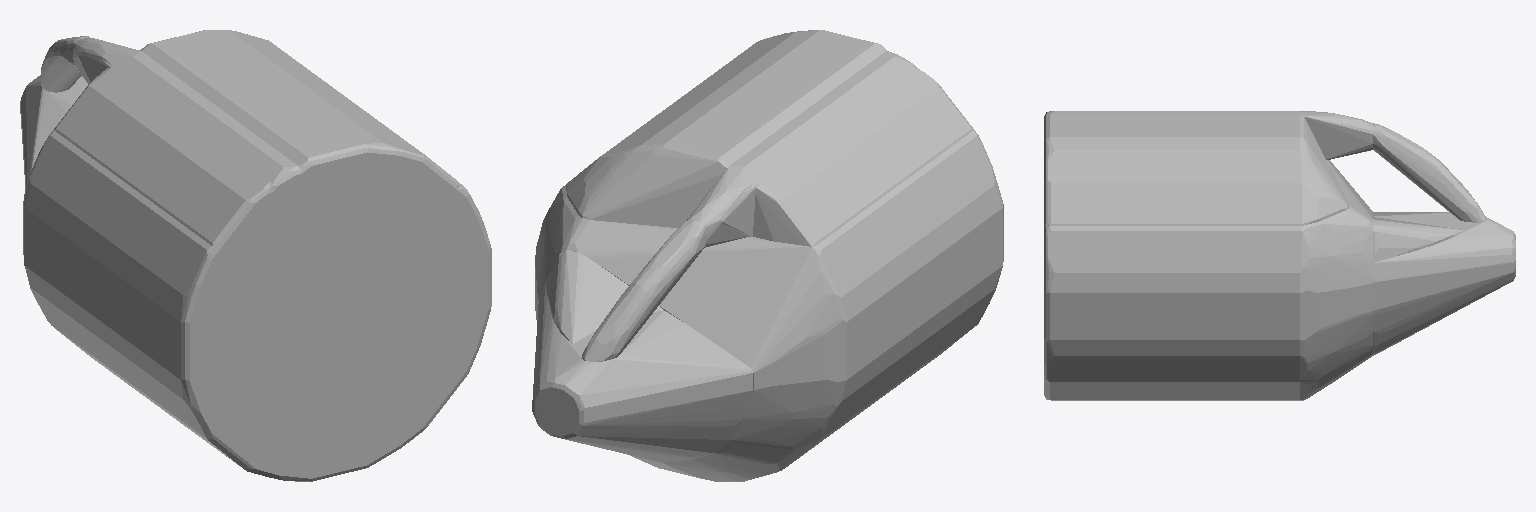
URDF robot description (root):
<robot name="root">
  <link name="link_coacd_convex_piece_0">
    <inertial>
      <origin xyz="0 0 0" rpy="0 0 0"/>
      <inertia ixx="1.38E-02" ixy="-2.59E-04" ixz="-4.12E-05" iyy="2.05E-03" iyz="1.65E-03" izz="1.41E-02"/>
    </inertial>
    <visual>
      <origin xyz="0 0 0" rpy="0 0 0"/>
      <geometry>
        <mesh filename="coacd_convex_piece_0.obj" scale="1.0000E+00 1.0000E+00 1.0000E+00"/>
      </geometry>
      <material name="">
        <color rgba="7.50E-01 7.50E-01 7.50E-01 1"/>
      </material>
    </visual>
    <collision>
      <origin xyz="0 0 0" rpy="0 0 0"/>
      <geometry>
        <mesh filename="coacd_convex_piece_0.obj" scale="1.0000E+00 1.0000E+00 1.0000E+00"/>
      </geometry>
    </collision>
  </link>
  <link name="link_coacd_convex_piece_1">
    <inertial>
      <origin xyz="0 0 0" rpy="0 0 0"/>
      <inertia ixx="1.25E-01" ixy="-9.99E-04" ixz="-2.99E-04" iyy="8.58E-02" iyz="-1.21E-02" izz="1.39E-01"/>
    </inertial>
    <visual>
      <origin xyz="0 0 0" rpy="0 0 0"/>
      <geometry>
        <mesh filename="coacd_convex_piece_1.obj" scale="1.0000E+00 1.0000E+00 1.0000E+00"/>
      </geometry>
      <material name="">
        <color rgba="7.50E-01 7.50E-01 7.50E-01 1"/>
      </material>
    </visual>
    <collision>
      <origin xyz="0 0 0" rpy="0 0 0"/>
      <geometry>
        <mesh filename="coacd_convex_piece_1.obj" scale="1.0000E+00 1.0000E+00 1.0000E+00"/>
      </geometry>
    </collision>
  </link>
  <joint name="link_coacd_convex_piece_1_joint" type="fixed">
    <origin xyz="0 0 0" rpy="0 0 0"/>
    <parent link="link_coacd_convex_piece_0"/>
    <child link="link_coacd_convex_piece_1"/>
  </joint>
  <link name="link_coacd_convex_piece_2">
    <inertial>
      <origin xyz="0 0 0" rpy="0 0 0"/>
      <inertia ixx="4.23E-04" ixy="-1.89E-04" ixz="-7.49E-05" iyy="1.62E-04" iyz="-1.90E-04" izz="4.30E-04"/>
    </inertial>
    <visual>
      <origin xyz="0 0 0" rpy="0 0 0"/>
      <geometry>
        <mesh filename="coacd_convex_piece_2.obj" scale="1.0000E+00 1.0000E+00 1.0000E+00"/>
      </geometry>
      <material name="">
        <color rgba="7.50E-01 7.50E-01 7.50E-01 1"/>
      </material>
    </visual>
    <collision>
      <origin xyz="0 0 0" rpy="0 0 0"/>
      <geometry>
        <mesh filename="coacd_convex_piece_2.obj" scale="1.0000E+00 1.0000E+00 1.0000E+00"/>
      </geometry>
    </collision>
  </link>
  <joint name="link_coacd_convex_piece_2_joint" type="fixed">
    <origin xyz="0 0 0" rpy="0 0 0"/>
    <parent link="link_coacd_convex_piece_1"/>
    <child link="link_coacd_convex_piece_2"/>
  </joint>
  <link name="link_coacd_convex_piece_3">
    <inertial>
      <origin xyz="0 0 0" rpy="0 0 0"/>
      <inertia ixx="2.28E-02" ixy="2.38E-03" ixz="-2.75E-03" iyy="1.43E-02" iyz="1.07E-02" izz="1.26E-02"/>
    </inertial>
    <visual>
      <origin xyz="0 0 0" rpy="0 0 0"/>
      <geometry>
        <mesh filename="coacd_convex_piece_3.obj" scale="1.0000E+00 1.0000E+00 1.0000E+00"/>
      </geometry>
      <material name="">
        <color rgba="7.50E-01 7.50E-01 7.50E-01 1"/>
      </material>
    </visual>
    <collision>
      <origin xyz="0 0 0" rpy="0 0 0"/>
      <geometry>
        <mesh filename="coacd_convex_piece_3.obj" scale="1.0000E+00 1.0000E+00 1.0000E+00"/>
      </geometry>
    </collision>
  </link>
  <joint name="link_coacd_convex_piece_3_joint" type="fixed">
    <origin xyz="0 0 0" rpy="0 0 0"/>
    <parent link="link_coacd_convex_piece_2"/>
    <child link="link_coacd_convex_piece_3"/>
  </joint>
  <link name="link_coacd_convex_piece_4">
    <inertial>
      <origin xyz="0 0 0" rpy="0 0 0"/>
      <inertia ixx="1.01E-03" ixy="1.85E-04" ixz="1.12E-04" iyy="3.20E-04" iyz="-4.52E-04" izz="7.87E-04"/>
    </inertial>
    <visual>
      <origin xyz="0 0 0" rpy="0 0 0"/>
      <geometry>
        <mesh filename="coacd_convex_piece_4.obj" scale="1.0000E+00 1.0000E+00 1.0000E+00"/>
      </geometry>
      <material name="">
        <color rgba="7.50E-01 7.50E-01 7.50E-01 1"/>
      </material>
    </visual>
    <collision>
      <origin xyz="0 0 0" rpy="0 0 0"/>
      <geometry>
        <mesh filename="coacd_convex_piece_4.obj" scale="1.0000E+00 1.0000E+00 1.0000E+00"/>
      </geometry>
    </collision>
  </link>
  <joint name="link_coacd_convex_piece_4_joint" type="fixed">
    <origin xyz="0 0 0" rpy="0 0 0"/>
    <parent link="link_coacd_convex_piece_3"/>
    <child link="link_coacd_convex_piece_4"/>
  </joint>
  <link name="link_coacd_convex_piece_5">
    <inertial>
      <origin xyz="0 0 0" rpy="0 0 0"/>
      <inertia ixx="4.63E-03" ixy="-8.01E-04" ixz="1.11E-03" iyy="3.12E-03" iyz="1.88E-03" izz="2.48E-03"/>
    </inertial>
    <visual>
      <origin xyz="0 0 0" rpy="0 0 0"/>
      <geometry>
        <mesh filename="coacd_convex_piece_5.obj" scale="1.0000E+00 1.0000E+00 1.0000E+00"/>
      </geometry>
      <material name="">
        <color rgba="7.50E-01 7.50E-01 7.50E-01 1"/>
      </material>
    </visual>
    <collision>
      <origin xyz="0 0 0" rpy="0 0 0"/>
      <geometry>
        <mesh filename="coacd_convex_piece_5.obj" scale="1.0000E+00 1.0000E+00 1.0000E+00"/>
      </geometry>
    </collision>
  </link>
  <joint name="link_coacd_convex_piece_5_joint" type="fixed">
    <origin xyz="0 0 0" rpy="0 0 0"/>
    <parent link="link_coacd_convex_piece_4"/>
    <child link="link_coacd_convex_piece_5"/>
  </joint>
  <link name="link_coacd_convex_piece_6">
    <inertial>
      <origin xyz="0 0 0" rpy="0 0 0"/>
      <inertia ixx="4.04E-03" ixy="-1.56E-03" ixz="1.51E-03" iyy="3.18E-03" iyz="1.97E-03" izz="3.35E-03"/>
    </inertial>
    <visual>
      <origin xyz="0 0 0" rpy="0 0 0"/>
      <geometry>
        <mesh filename="coacd_convex_piece_6.obj" scale="1.0000E+00 1.0000E+00 1.0000E+00"/>
      </geometry>
      <material name="">
        <color rgba="7.50E-01 7.50E-01 7.50E-01 1"/>
      </material>
    </visual>
    <collision>
      <origin xyz="0 0 0" rpy="0 0 0"/>
      <geometry>
        <mesh filename="coacd_convex_piece_6.obj" scale="1.0000E+00 1.0000E+00 1.0000E+00"/>
      </geometry>
    </collision>
  </link>
  <joint name="link_coacd_convex_piece_6_joint" type="fixed">
    <origin xyz="0 0 0" rpy="0 0 0"/>
    <parent link="link_coacd_convex_piece_5"/>
    <child link="link_coacd_convex_piece_6"/>
  </joint>
  <link name="link_coacd_convex_piece_7">
    <inertial>
      <origin xyz="0 0 0" rpy="0 0 0"/>
      <inertia ixx="7.44E-07" ixy="7.25E-08" ixz="3.14E-08" iyy="1.87E-07" iyz="-4.45E-07" izz="5.70E-07"/>
    </inertial>
    <visual>
      <origin xyz="0 0 0" rpy="0 0 0"/>
      <geometry>
        <mesh filename="coacd_convex_piece_7.obj" scale="1.0000E+00 1.0000E+00 1.0000E+00"/>
      </geometry>
      <material name="">
        <color rgba="7.50E-01 7.50E-01 7.50E-01 1"/>
      </material>
    </visual>
    <collision>
      <origin xyz="0 0 0" rpy="0 0 0"/>
      <geometry>
        <mesh filename="coacd_convex_piece_7.obj" scale="1.0000E+00 1.0000E+00 1.0000E+00"/>
      </geometry>
    </collision>
  </link>
  <joint name="link_coacd_convex_piece_7_joint" type="fixed">
    <origin xyz="0 0 0" rpy="0 0 0"/>
    <parent link="link_coacd_convex_piece_6"/>
    <child link="link_coacd_convex_piece_7"/>
  </joint>
  <link name="link_coacd_convex_piece_8">
    <inertial>
      <origin xyz="0 0 0" rpy="0 0 0"/>
      <inertia ixx="3.53E-04" ixy="-9.16E-05" ixz="1.06E-04" iyy="2.48E-04" iyz="1.61E-04" izz="2.25E-04"/>
    </inertial>
    <visual>
      <origin xyz="0 0 0" rpy="0 0 0"/>
      <geometry>
        <mesh filename="coacd_convex_piece_8.obj" scale="1.0000E+00 1.0000E+00 1.0000E+00"/>
      </geometry>
      <material name="">
        <color rgba="7.50E-01 7.50E-01 7.50E-01 1"/>
      </material>
    </visual>
    <collision>
      <origin xyz="0 0 0" rpy="0 0 0"/>
      <geometry>
        <mesh filename="coacd_convex_piece_8.obj" scale="1.0000E+00 1.0000E+00 1.0000E+00"/>
      </geometry>
    </collision>
  </link>
  <joint name="link_coacd_convex_piece_8_joint" type="fixed">
    <origin xyz="0 0 0" rpy="0 0 0"/>
    <parent link="link_coacd_convex_piece_7"/>
    <child link="link_coacd_convex_piece_8"/>
  </joint>
</robot>

--- Facts derived from the render (not from the file) ---
3 views of the same robot in one strip: view 1: azimuth 30°, elevation 25°; view 2: azimuth 150°, elevation 25°; view 3: azimuth 270°, elevation 25° (orthographic).
Model root with 9 links and 8 joints (8 fixed), rooted at link_coacd_convex_piece_0, posed every joint at zero.
Visible links, largest first — view 1: link_coacd_convex_piece_1, link_coacd_convex_piece_3, link_coacd_convex_piece_6, link_coacd_convex_piece_5, link_coacd_convex_piece_0, link_coacd_convex_piece_4, link_coacd_convex_piece_8; view 2: link_coacd_convex_piece_1, link_coacd_convex_piece_3, link_coacd_convex_piece_0, link_coacd_convex_piece_6, link_coacd_convex_piece_5, link_coacd_convex_piece_4, link_coacd_convex_piece_2, link_coacd_convex_piece_8; view 3: link_coacd_convex_piece_1, link_coacd_convex_piece_3, link_coacd_convex_piece_0, link_coacd_convex_piece_4, link_coacd_convex_piece_5, link_coacd_convex_piece_2.
Boxes of the visible links, x1,y1,x2,y2 form: link_coacd_convex_piece_1: (23,130,491,481); link_coacd_convex_piece_3: (140,30,460,226); link_coacd_convex_piece_6: (54,68,270,246); link_coacd_convex_piece_5: (73,37,300,232); link_coacd_convex_piece_0: (20,76,87,189); link_coacd_convex_piece_4: (40,36,88,92); link_coacd_convex_piece_8: (78,53,273,233); link_coacd_convex_piece_1: (535,130,1003,481); link_coacd_convex_piece_3: (566,30,886,227); link_coacd_convex_piece_0: (532,283,752,462); link_coacd_convex_piece_6: (753,68,973,246); link_coacd_convex_piece_5: (687,51,914,247); link_coacd_convex_piece_4: (582,219,706,361); link_coacd_convex_piece_2: (545,250,628,343); link_coacd_convex_piece_8: (721,66,917,236); link_coacd_convex_piece_1: (1044,160,1372,400); link_coacd_convex_piece_3: (1044,115,1348,225); link_coacd_convex_piece_0: (1373,212,1515,355); link_coacd_convex_piece_4: (1373,123,1486,222); link_coacd_convex_piece_5: (1044,111,1372,159); link_coacd_convex_piece_2: (1373,217,1463,262).
Bounding box of the posed robot: 1.03 × 1.69 × 1.03 m (x, y, z).
Meshes: 9 distinct files referenced, 9 mesh visuals loaded (9 OBJ).
